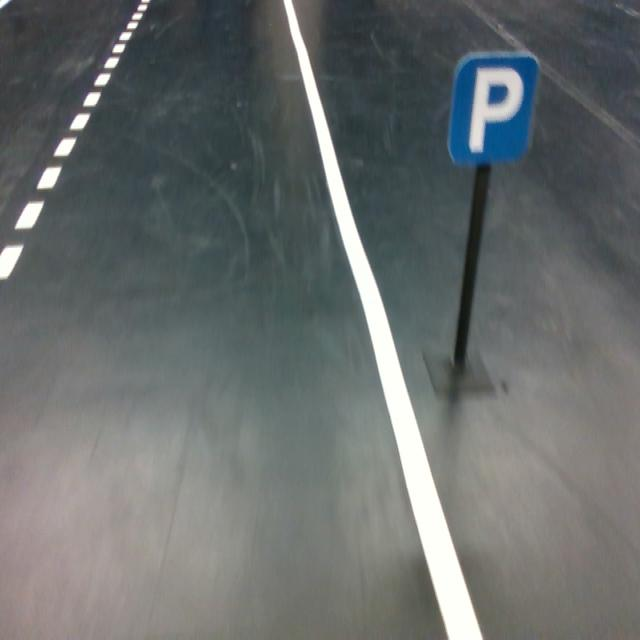parking-sign: (446, 50, 540, 167)
